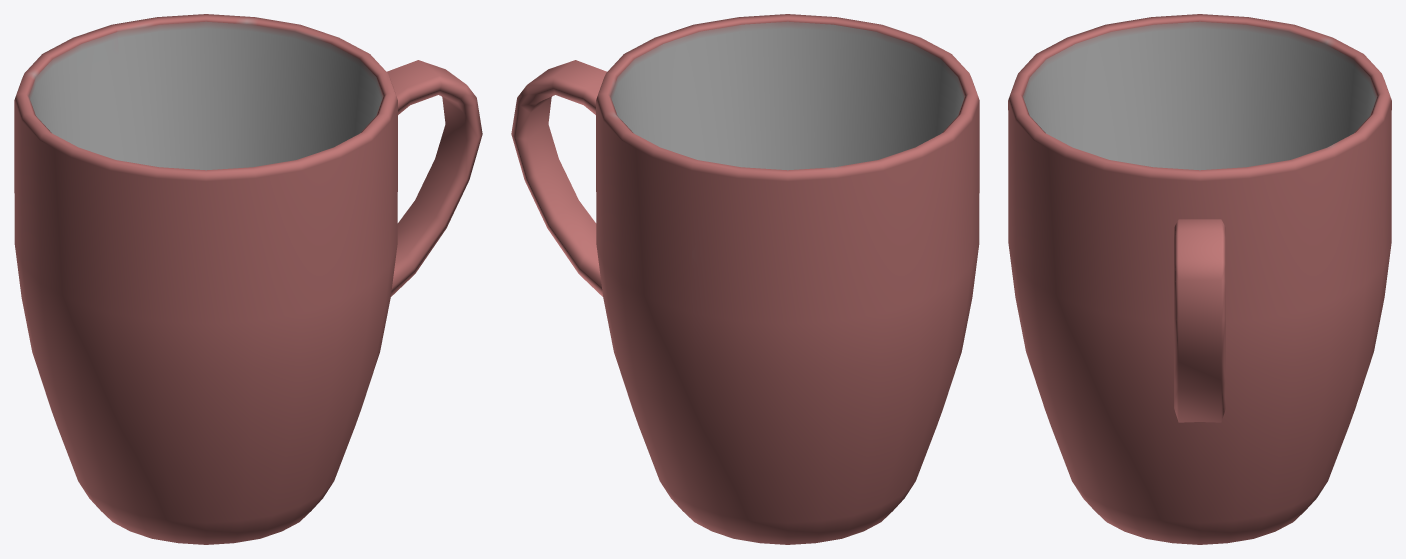
The model's file is pi_cup03_01.gltf.
The picture shows the model from 3 angles, left to right: view 1: azimuth 30°, elevation 25°; view 2: azimuth 150°, elevation 25°; view 3: azimuth 270°, elevation 25°; orthographic projection.
Parts seen in each view (by area): view 1: pi_cup03_01_mesh_shape:pi_cup03_body; view 2: pi_cup03_01_mesh_shape:pi_cup03_body; view 3: pi_cup03_01_mesh_shape:pi_cup03_body.
Boxes of the visible parts, left/top/right/bottom form: pi_cup03_01_mesh_shape:pi_cup03_body: left=14, top=14, right=482, bottom=544; pi_cup03_01_mesh_shape:pi_cup03_body: left=511, top=14, right=979, bottom=544; pi_cup03_01_mesh_shape:pi_cup03_body: left=1008, top=14, right=1391, bottom=544.
Size of what is drawn, in the model's own units: 0.1489 by 0.1337 by 0.1146.
Materials: 1 (1 with a texture image).
